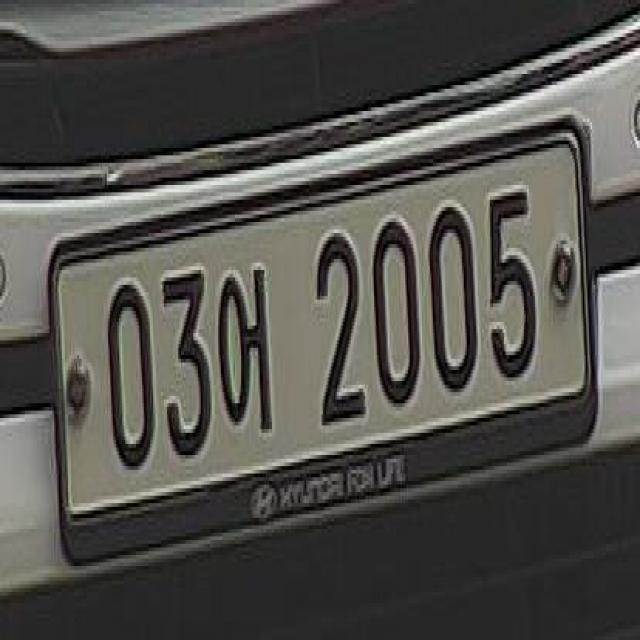illegal_plate: (49, 127, 602, 556)
